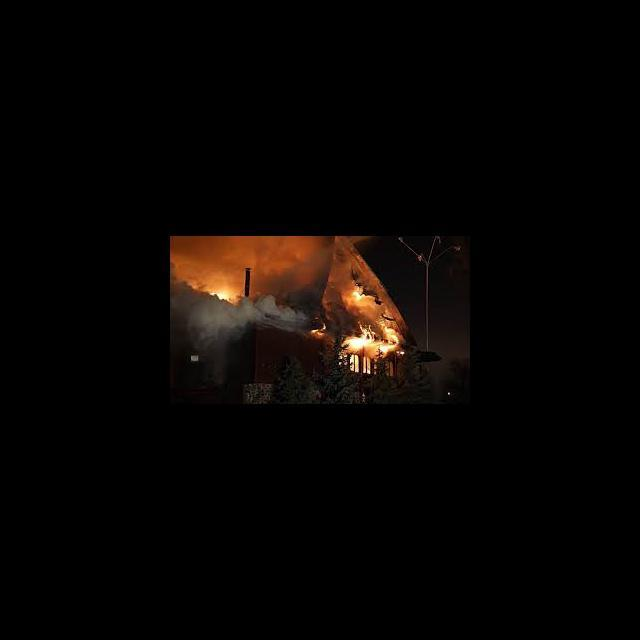Fire: (336, 274, 404, 374), (210, 286, 233, 300)
Smoke: (171, 302, 295, 333)
